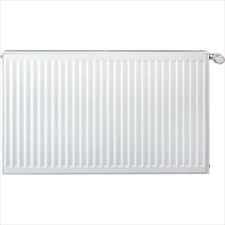Radiator: (1, 49, 224, 175)
